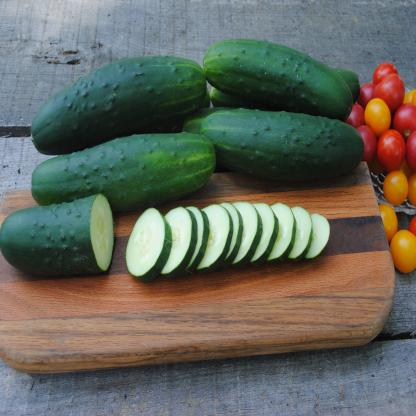--: (26, 50, 207, 145), (162, 198, 349, 282), (207, 20, 358, 124), (18, 128, 218, 206), (195, 103, 383, 182), (0, 191, 116, 283), (128, 202, 170, 286)
